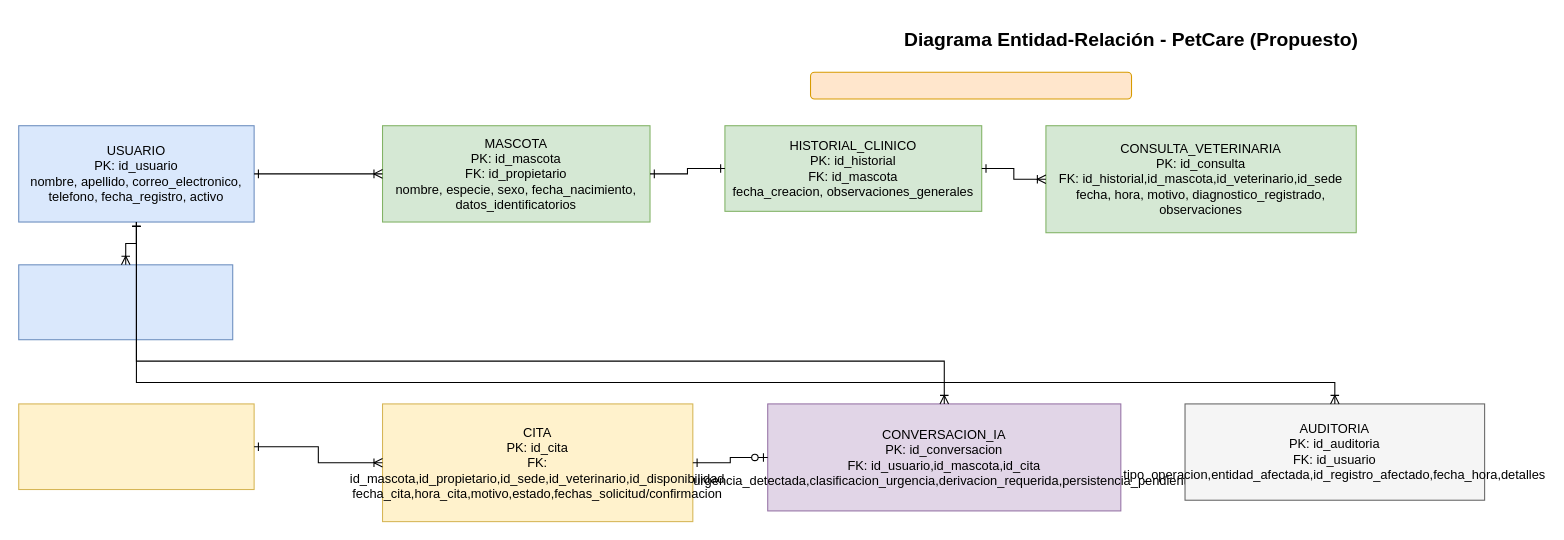
Image size: 1564x540. Some labels were removed from this diagram. Here are the shapes that lost their labels. From the top down, the box of each, then its label:
(809, 71, 1132, 99): MVP visual no funcional - Diseño propuesto
(18, 264, 233, 340): ROL PK: id_rol nombre_rol, descripcion, pendiente_definir
(18, 403, 254, 490): SEDE PK: id_sede nombre, direccion, telefono, activa, es_una_de_dos_sedes
